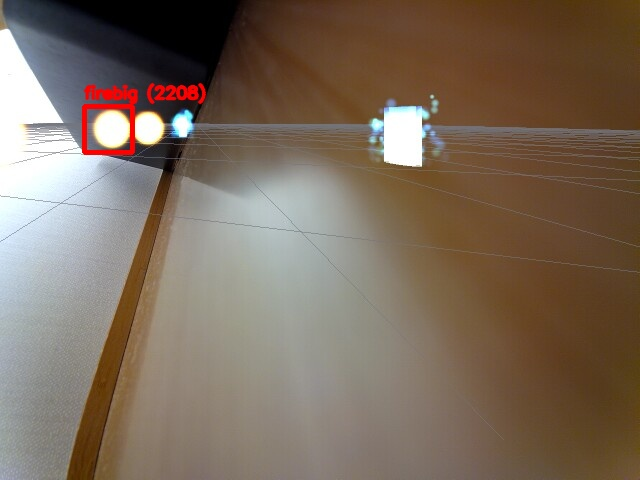firebig: (84, 106, 132, 152)
